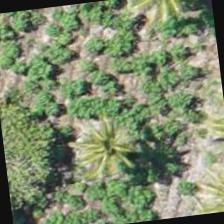Kelapa_Sawit: (58, 94, 158, 194)
